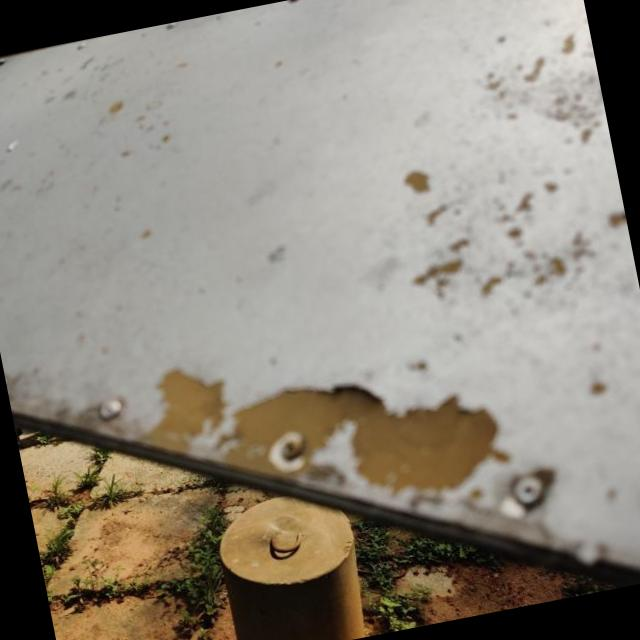Paint-off: (217, 388, 507, 493), (146, 370, 225, 453)
